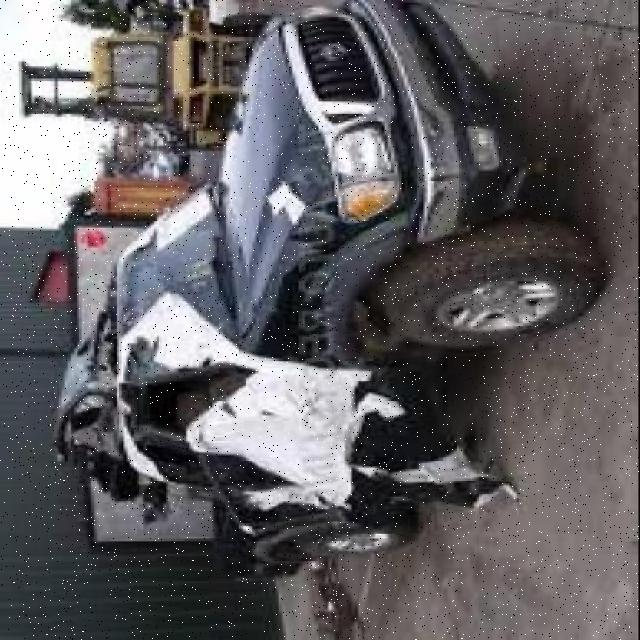damage: (54, 297, 533, 538)
